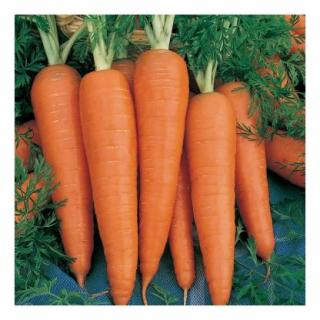Wortel: (80, 70, 141, 306), (33, 66, 96, 276), (136, 50, 191, 282), (186, 93, 240, 307)
